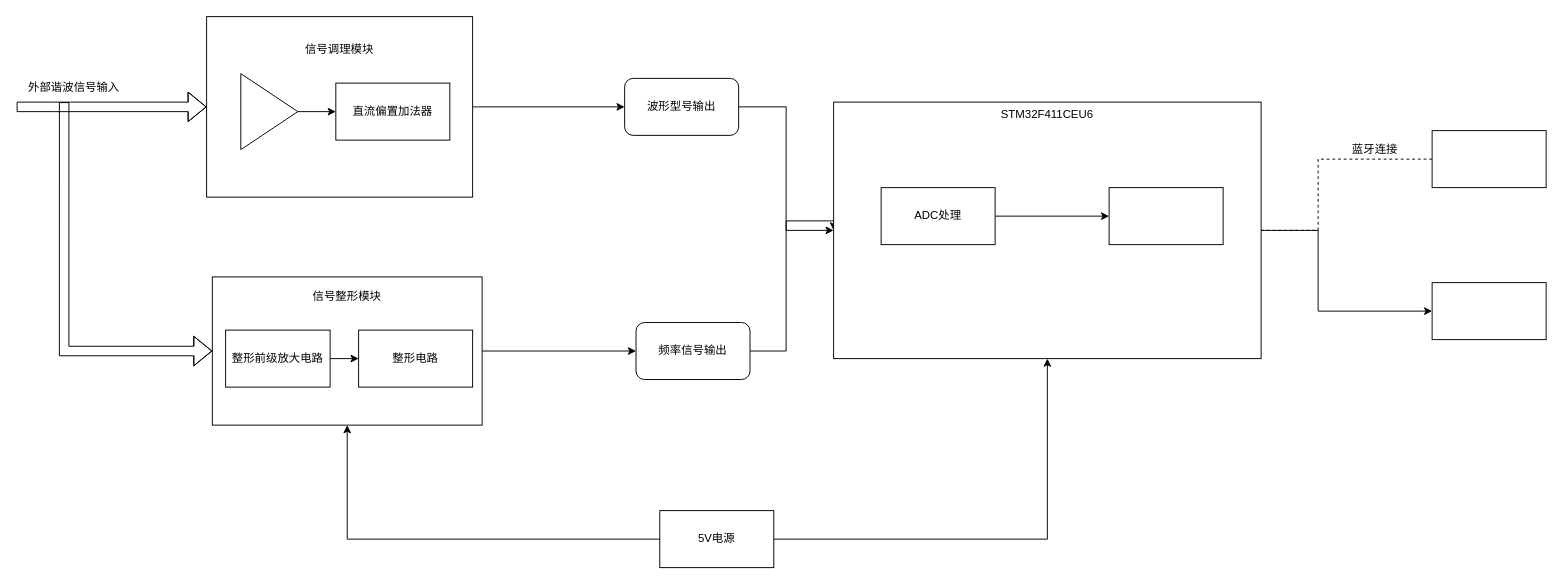
This 1563x584 diagram has some shape labels left out. The centre of each missing label's shape, as x and y in pixels:
"DFT分析" belongs at (x=1165, y=216).
"手机APP" belongs at (x=1488, y=159).
"显示屏" belongs at (x=1488, y=311).
"自动增益放大器ACG" belongs at (x=269, y=111).
